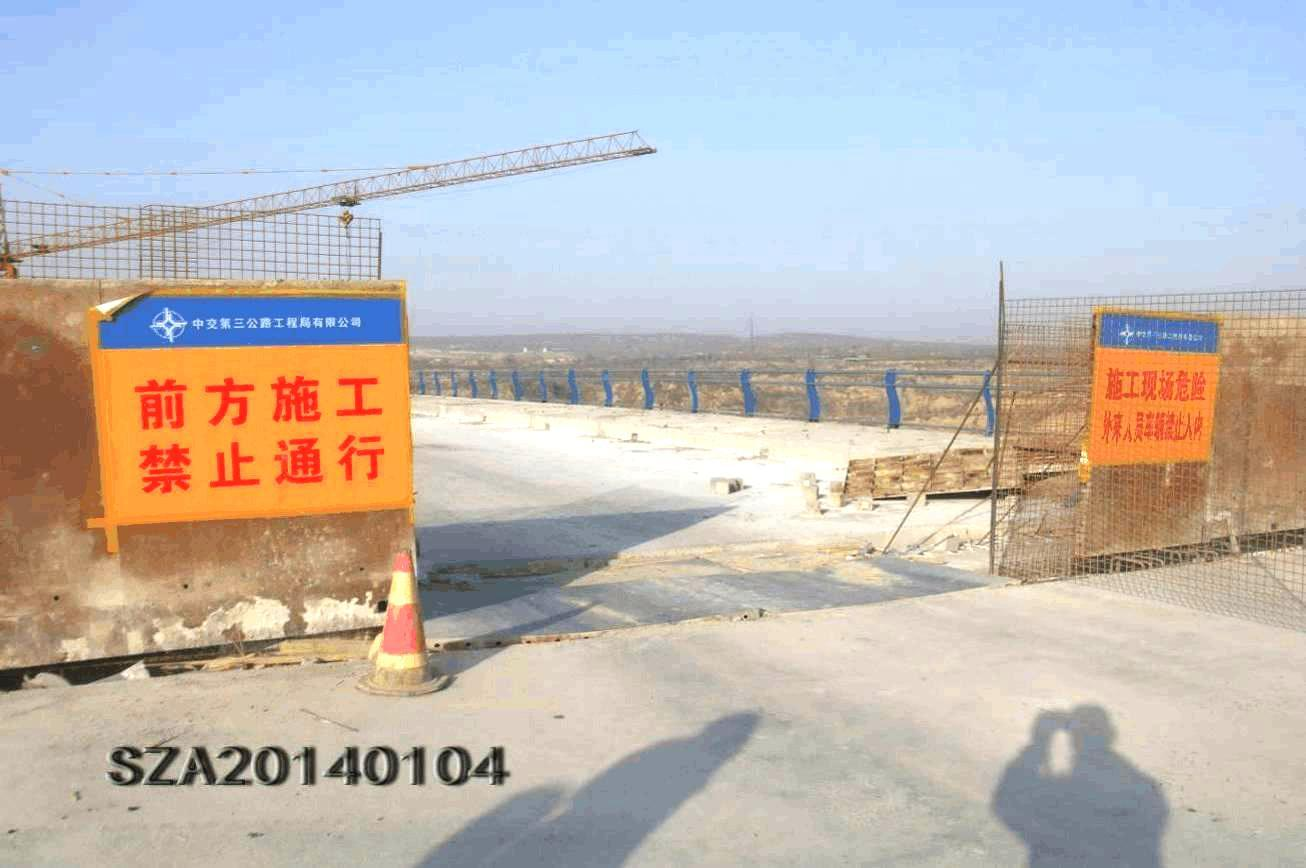sign: (100, 296, 414, 511), (1089, 310, 1223, 461)
